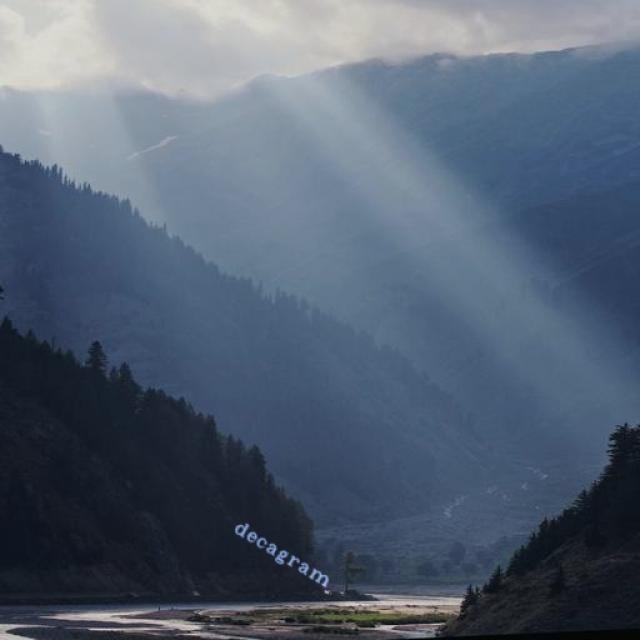watermark: (227, 515, 340, 590)
